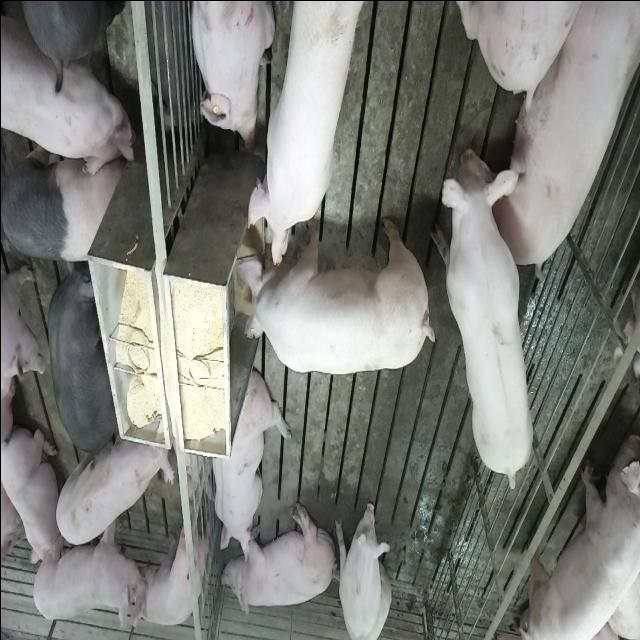Feeding: (233, 211, 438, 372), (246, 7, 364, 275)
Lateral_lying: (220, 500, 337, 618)
Sitting: (334, 493, 390, 640)
Standing: (434, 148, 536, 492), (523, 433, 640, 640), (2, 2, 134, 183), (2, 131, 126, 262), (50, 424, 170, 544), (43, 265, 116, 458), (28, 509, 144, 624), (136, 511, 203, 625), (15, 2, 114, 78), (84, 509, 144, 626)
Sternal_lying: (208, 366, 286, 560), (185, 0, 272, 148), (3, 421, 61, 568)
